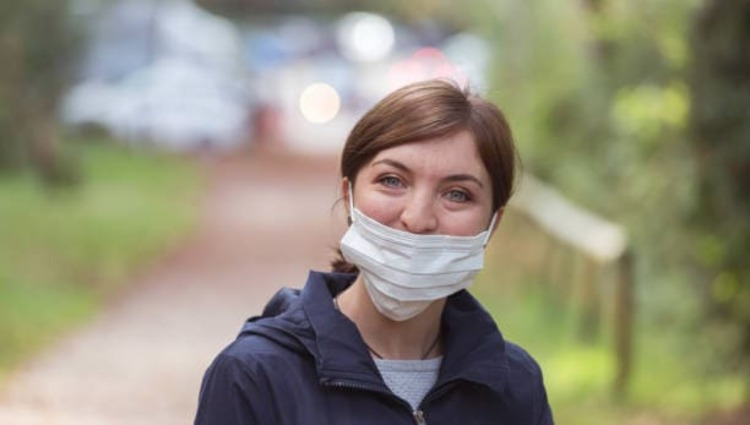with_incorrect_mask: (351, 139, 486, 303)
